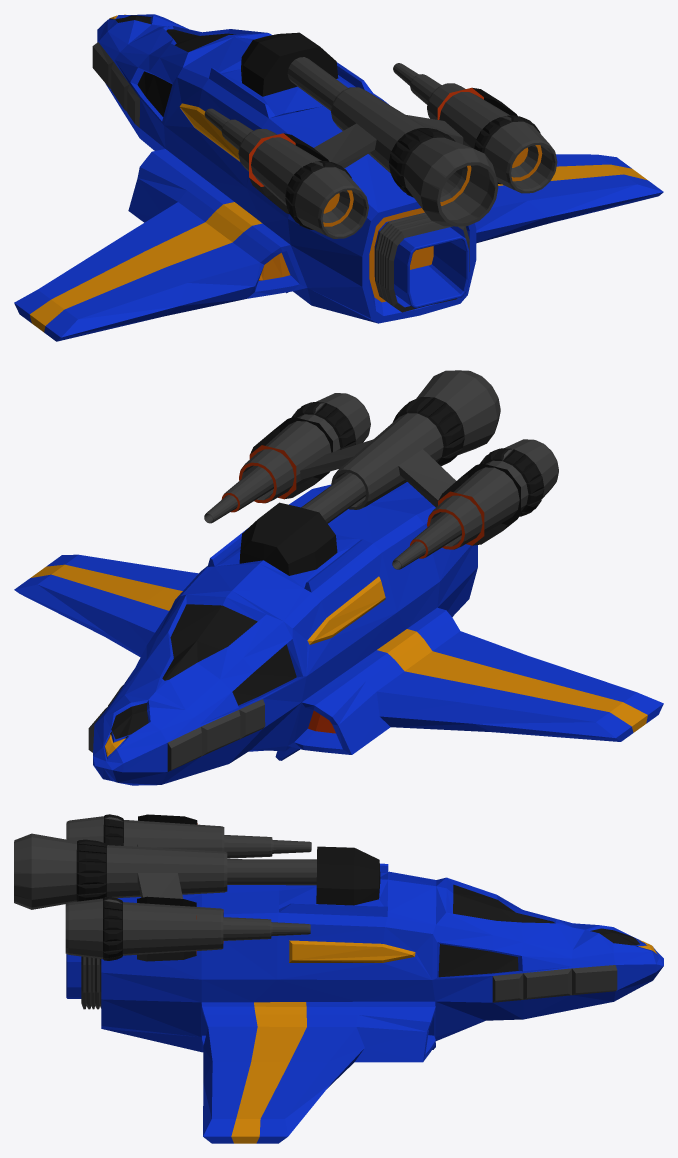
The model's file is booster.obj.
The picture shows the model from 3 angles, top to bottom: view 1: azimuth 30°, elevation 25°; view 2: azimuth 150°, elevation 25°; view 3: azimuth 270°, elevation 25°; orthographic projection. The views are drawn at different scales.
Visible parts, largest first — view 1: Cube_Cube.001_Blue_body, Cube_Cube.001_uper_thruster, Cube_Cube.001_golden_emit, Cube_Cube.001_side_, Cube_Cube.001_silver_metal, Cube_Cube.001_yellow_emit, Cube_Cube.001_glass, Cube_Cube.001_weapon; view 2: Cube_Cube.001_Blue_body, Cube_Cube.001_uper_thruster, Cube_Cube.001_side_, Cube_Cube.001_golden_emit, Cube_Cube.001_glass, Cube_Cube.001_silver_metal, Cube_Cube.001_weapon; view 3: Cube_Cube.001_Blue_body, Cube_Cube.001_uper_thruster, Cube_Cube.001_side_, Cube_Cube.001_golden_emit, Cube_Cube.001_silver_metal, Cube_Cube.001_glass.
Boxes of the visible parts, <box> form: Cube_Cube.001_Blue_body: <box>14,14,663,341</box>; Cube_Cube.001_uper_thruster: <box>204,57,557,238</box>; Cube_Cube.001_golden_emit: <box>29,14,647,332</box>; Cube_Cube.001_side_: <box>241,32,540,229</box>; Cube_Cube.001_silver_metal: <box>92,42,469,312</box>; Cube_Cube.001_yellow_emit: <box>258,145,542,302</box>; Cube_Cube.001_glass: <box>115,15,235,116</box>; Cube_Cube.001_weapon: <box>249,87,483,186</box>; Cube_Cube.001_Blue_body: <box>14,482,663,785</box>; Cube_Cube.001_uper_thruster: <box>204,370,558,569</box>; Cube_Cube.001_side_: <box>239,397,544,575</box>; Cube_Cube.001_golden_emit: <box>31,564,647,756</box>; Cube_Cube.001_glass: <box>110,604,296,739</box>; Cube_Cube.001_silver_metal: <box>88,682,265,771</box>; Cube_Cube.001_weapon: <box>221,445,484,733</box>; Cube_Cube.001_Blue_body: <box>66,863,663,1143</box>; Cube_Cube.001_uper_thruster: <box>14,816,316,959</box>; Cube_Cube.001_side_: <box>76,814,380,961</box>; Cube_Cube.001_golden_emit: <box>231,940,657,1143</box>; Cube_Cube.001_silver_metal: <box>81,956,617,1009</box>; Cube_Cube.001_glass: <box>438,884,639,977</box>.
Size of the model in its own units: 2.64 by 0.9454 by 2.76.
